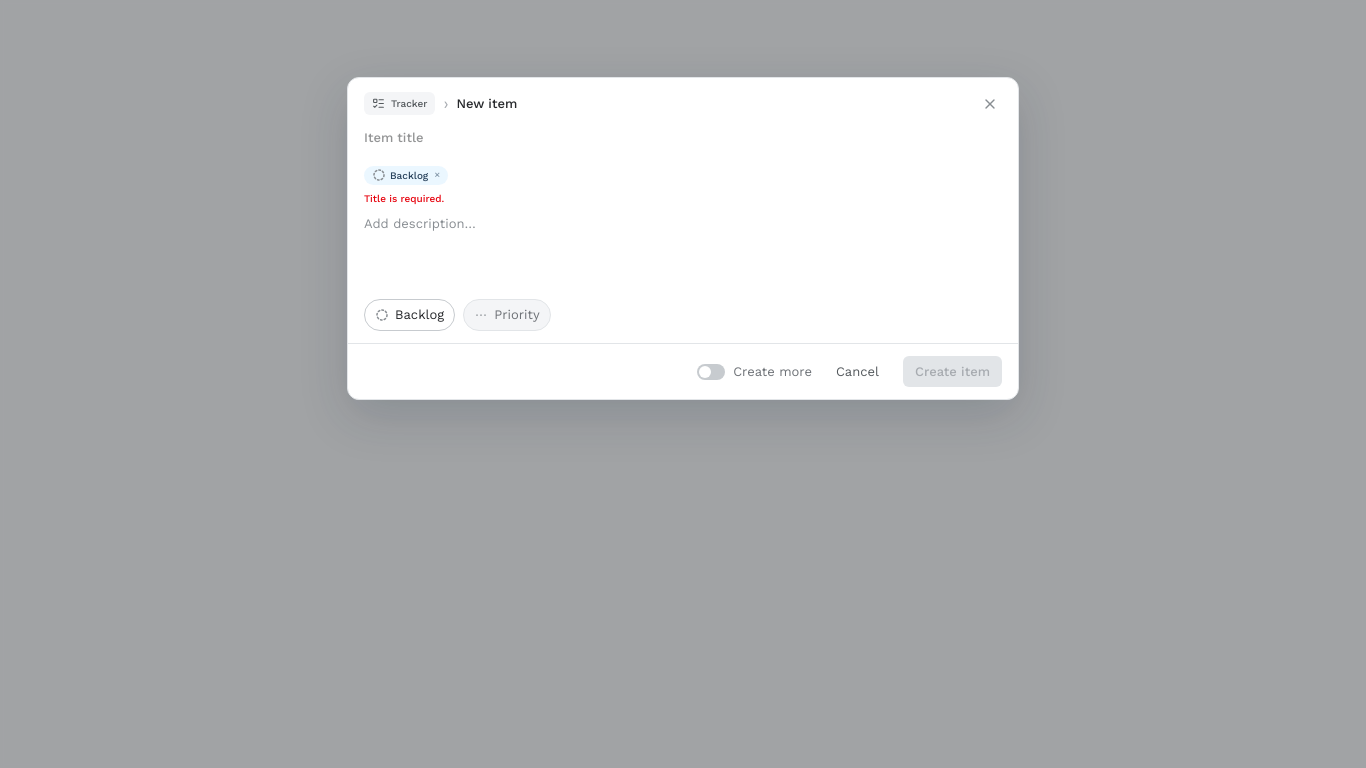
Test: TrackerCreateModal › shows an error and stays open when create fails
Type "Broken create" into the dropdown labelled "Item title" at {"x": 683, "y": 144}, box left=364, top=128, right=1002, bottom=160
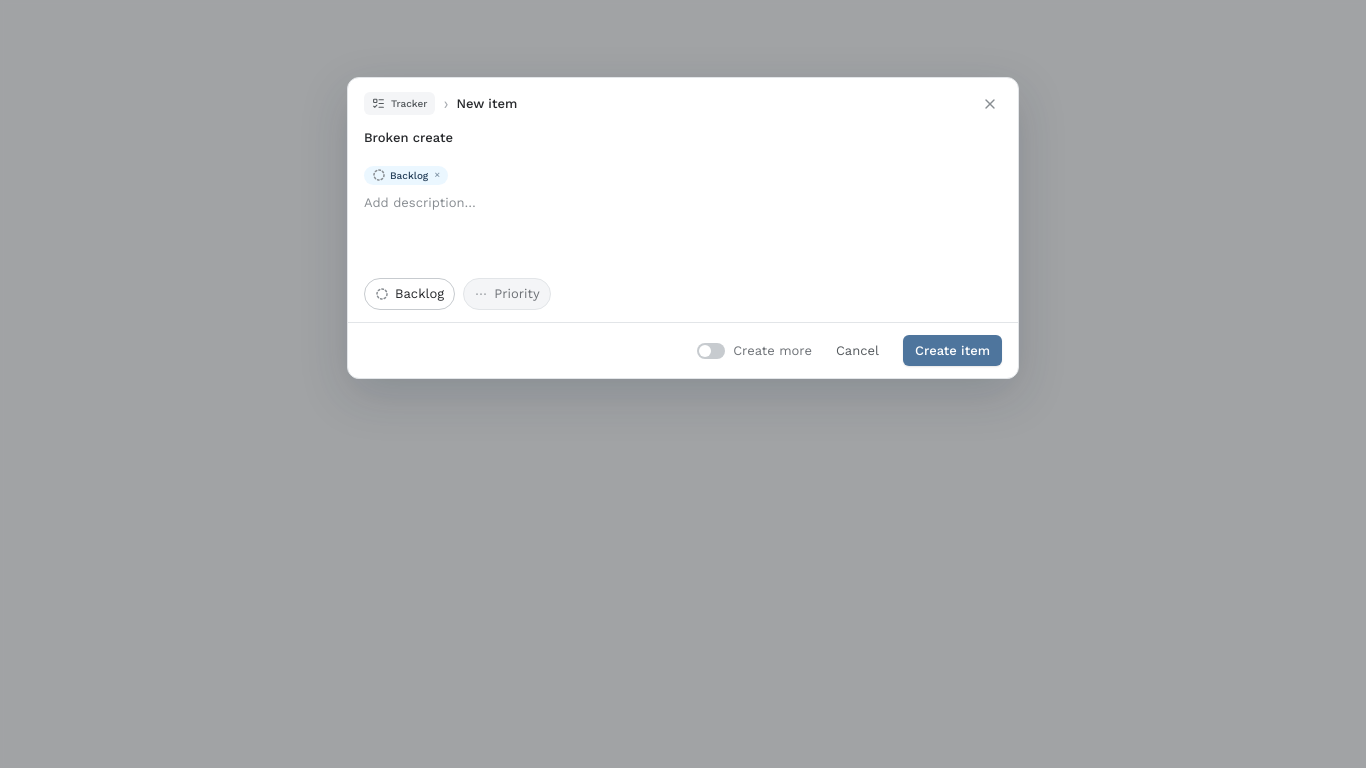
Click the button "Create item" at {"x": 952, "y": 351}, box left=903, top=335, right=1002, bottom=366
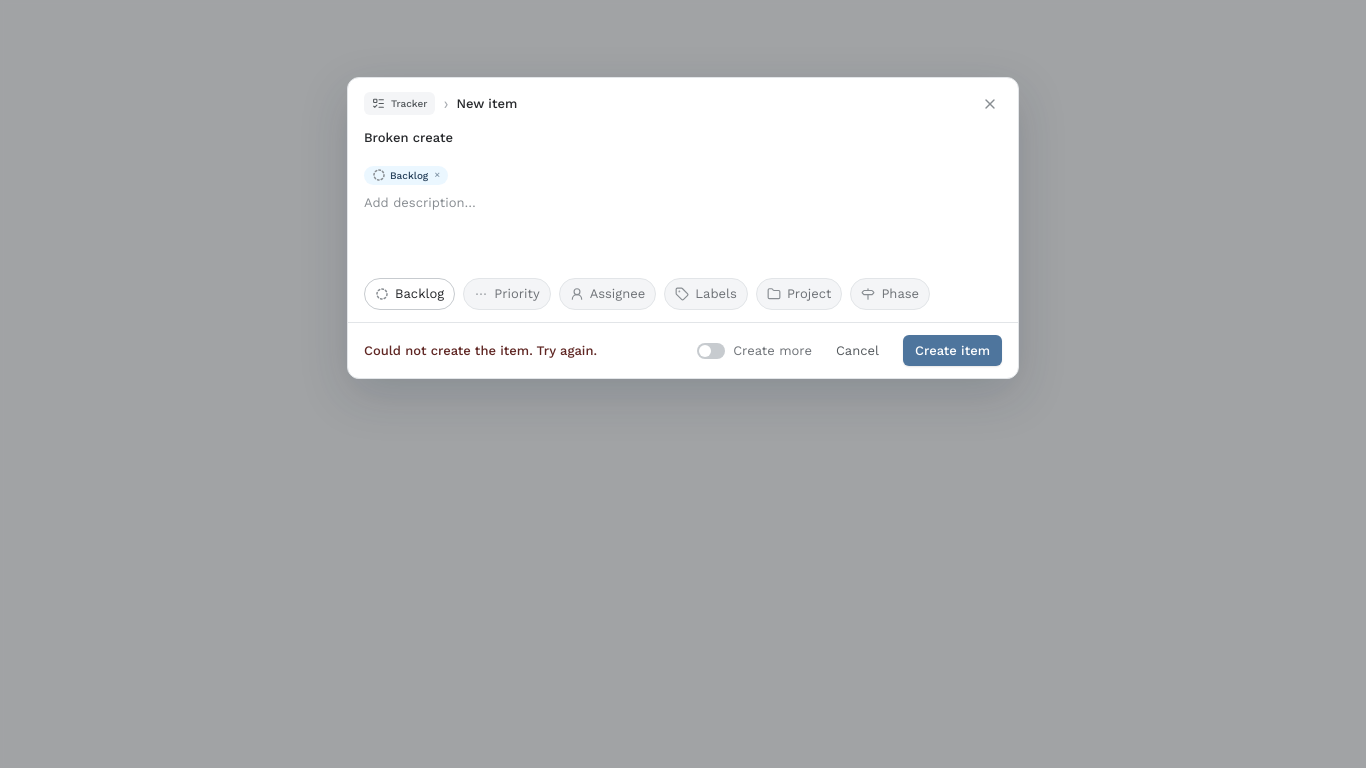
Expected: the text "Could not create the item. Try again." is shown, left=364, top=341, right=597, bottom=360
